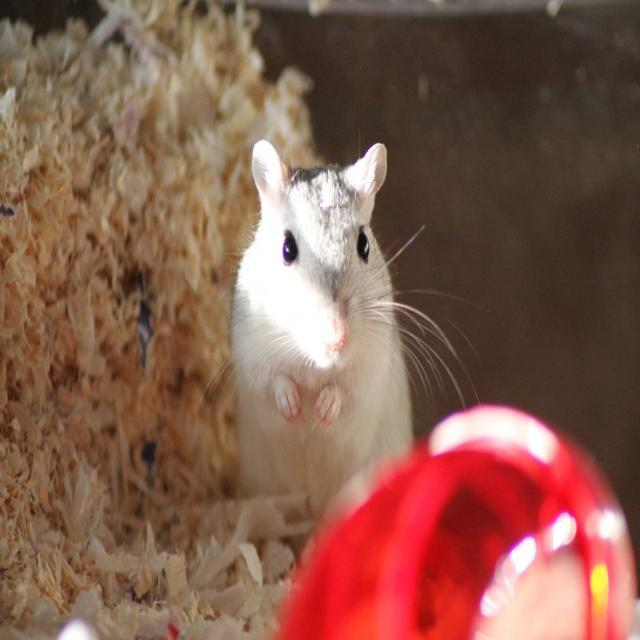rat: (224, 137, 418, 524)
